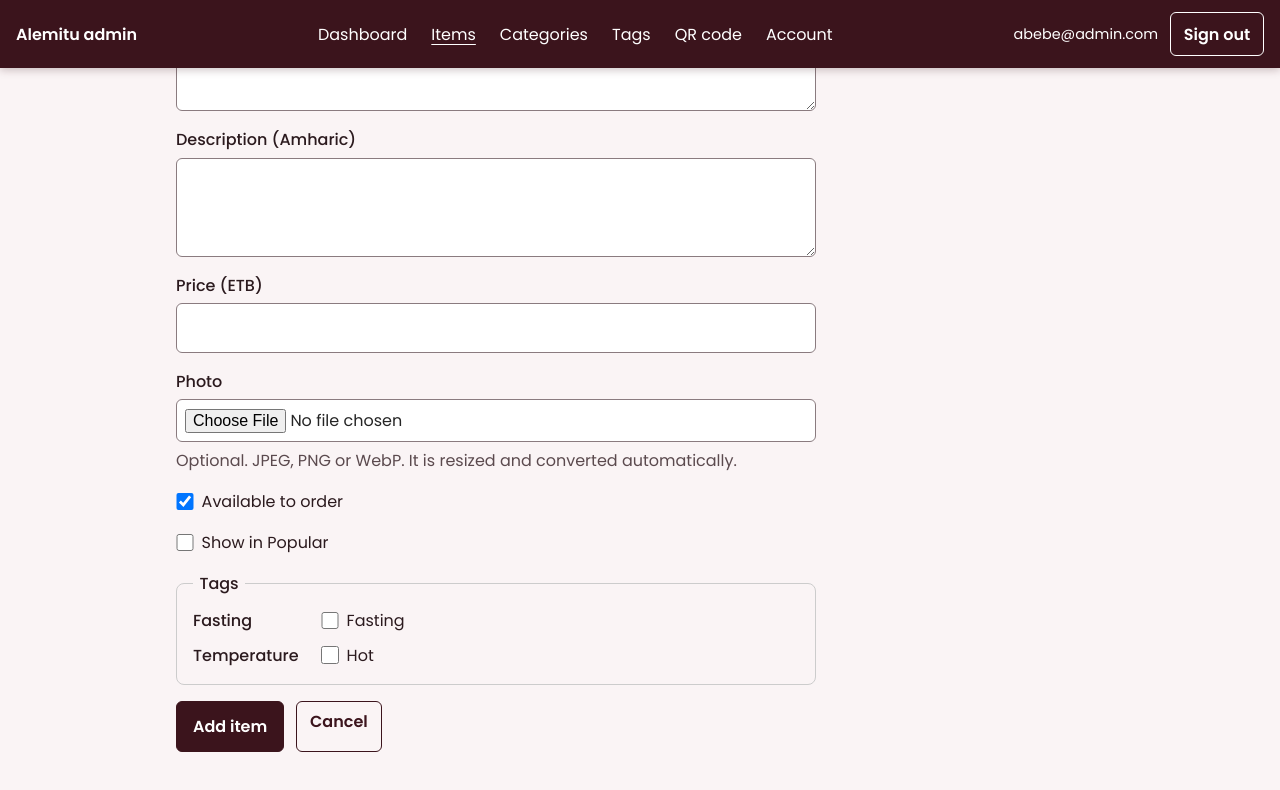
Test: add and edit item form › explains missing fields and sends nothing
This screenshot has width=1280, height=790.
(page scrolled)
Click the button "Add item" at (230, 726), box [176,701,284,752]
(page scrolled)
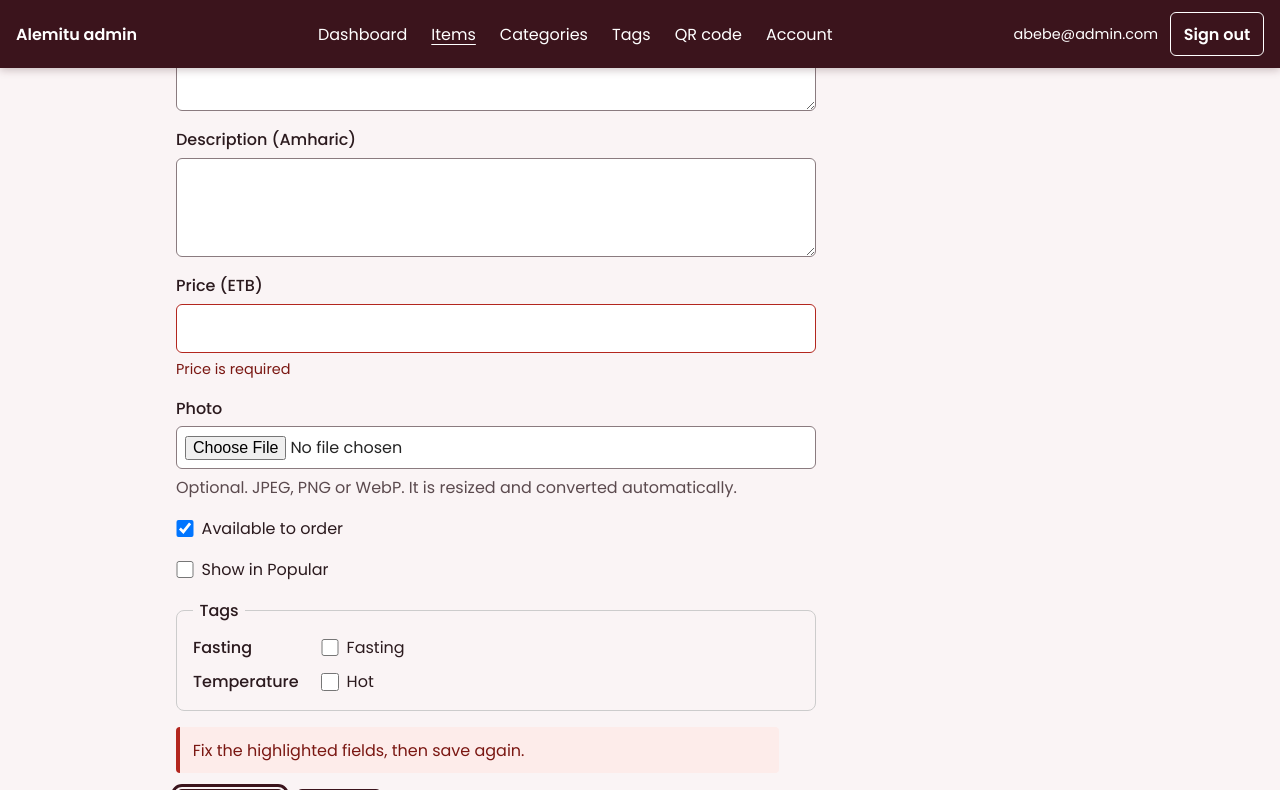
expect the text "Price is required" is shown: met, box [176,359,290,379]
expect the message shows "Fix the highlighted fields": met, box [193,739,524,762]
